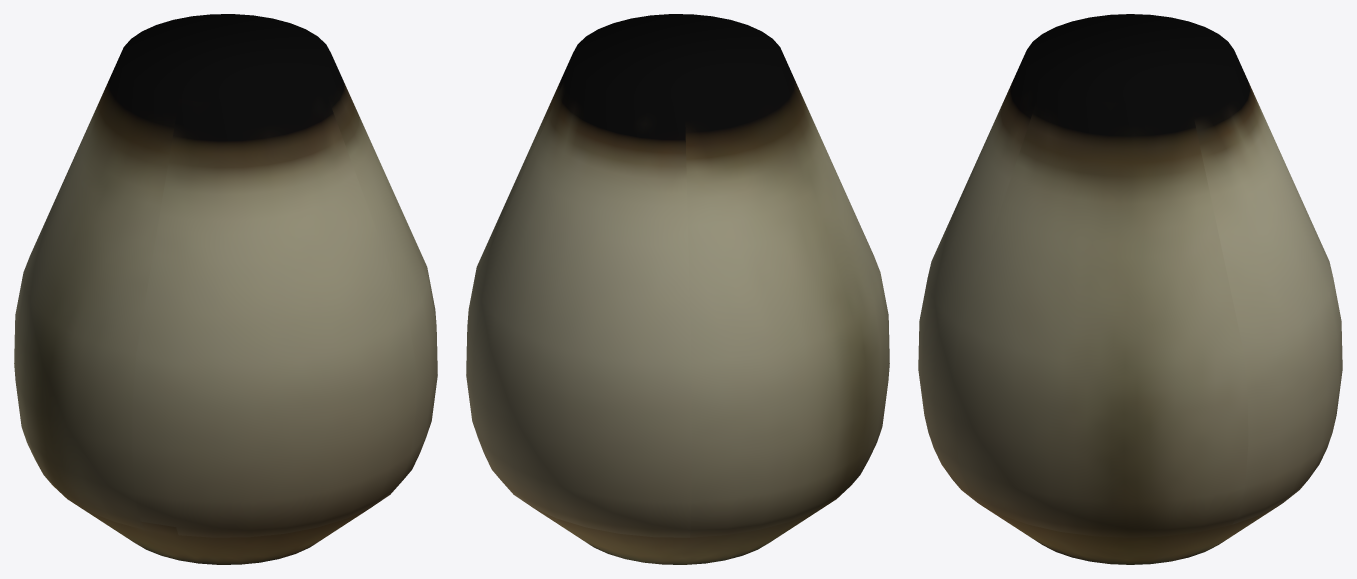
The model's file is zarowka.gltf.
The picture shows the model from 3 angles, left to right: view 1: azimuth 30°, elevation 25°; view 2: azimuth 150°, elevation 25°; view 3: azimuth 270°, elevation 25°; orthographic projection.
Visible parts, largest first — view 1: Swiatlo; view 2: Swiatlo; view 3: Swiatlo.
Boxes of the visible parts, left/top/right/bottom form: Swiatlo: left=14, top=14, right=437, bottom=564; Swiatlo: left=466, top=14, right=889, bottom=564; Swiatlo: left=918, top=14, right=1342, bottom=564.
Size of the model in its own units: 0.2133 by 0.256 by 0.2133.
Materials: 1 (1 with a texture image).
